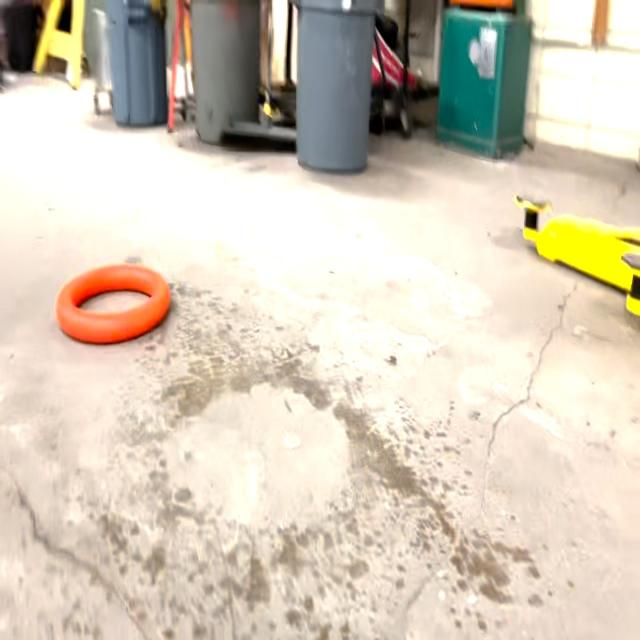note: (58, 259, 170, 345)
